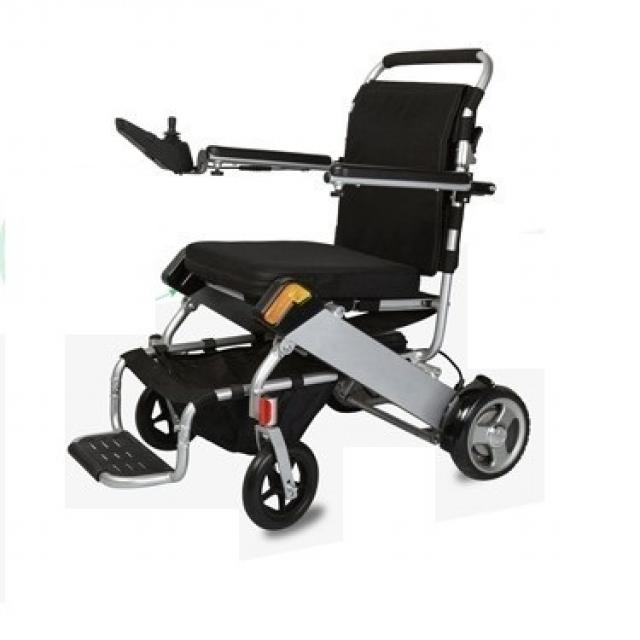wheelchair: (71, 28, 529, 533)
